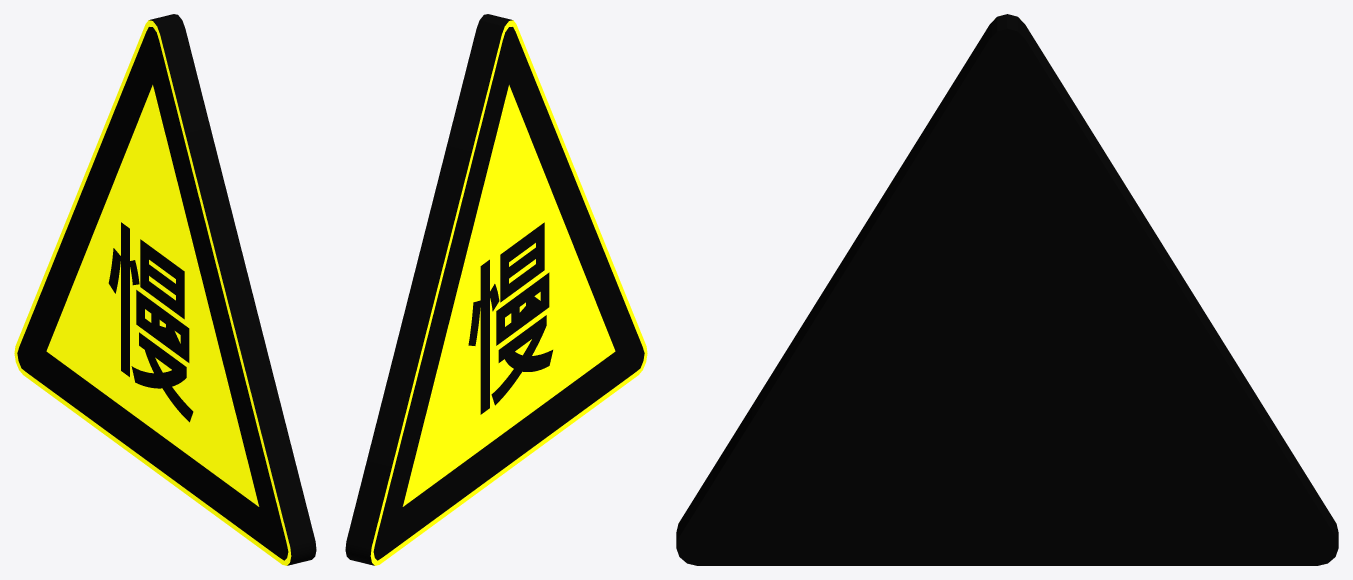
The model's file is Slow_Driving.glb.
The picture shows the model from 3 angles, left to right: view 1: azimuth 30°, elevation 25°; view 2: azimuth 150°, elevation 25°; view 3: azimuth 270°, elevation 25°; orthographic projection. The views are drawn at different scales.
Visible parts, largest first — view 1: Slow_Driving; view 2: Slow_Driving; view 3: Slow_Driving.
Part boxes in pixels (x1,y1,x2,y2): Slow_Driving: [14, 14, 316, 565]; Slow_Driving: [345, 14, 647, 565]; Slow_Driving: [676, 14, 1338, 565].
Size of the model in its own units: 0.0643 by 1.02 by 1.14.
